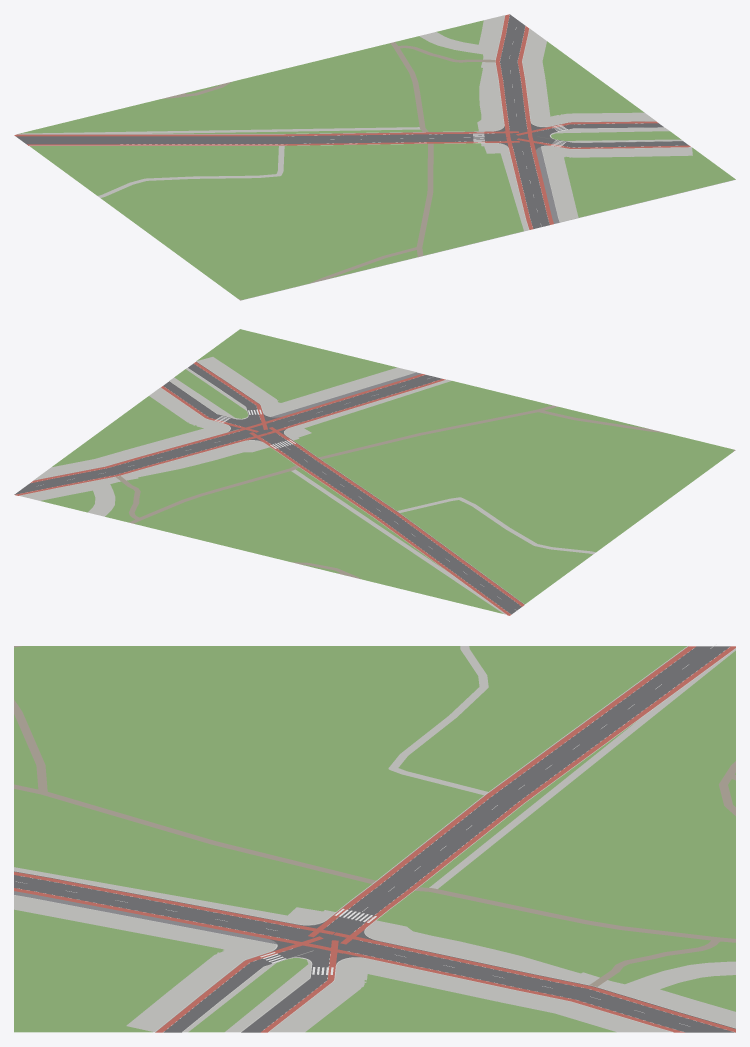
Rendered from ground_5_13.glb.
The picture shows the model from 3 angles, top to bottom: view 1: azimuth 30°, elevation 25°; view 2: azimuth 150°, elevation 25°; view 3: azimuth 270°, elevation 25°; orthographic projection. The views are drawn at different scales.
Parts seen in each view (by area): view 1: ground_5_13; view 2: ground_5_13; view 3: ground_5_13.
Boxes of the visible parts, bbox=[...] form: ground_5_13: bbox=[14, 14, 735, 300]; ground_5_13: bbox=[14, 329, 735, 615]; ground_5_13: bbox=[14, 644, 735, 1032].
Size of the model in its own units: 201 by 0.12 by 158.
